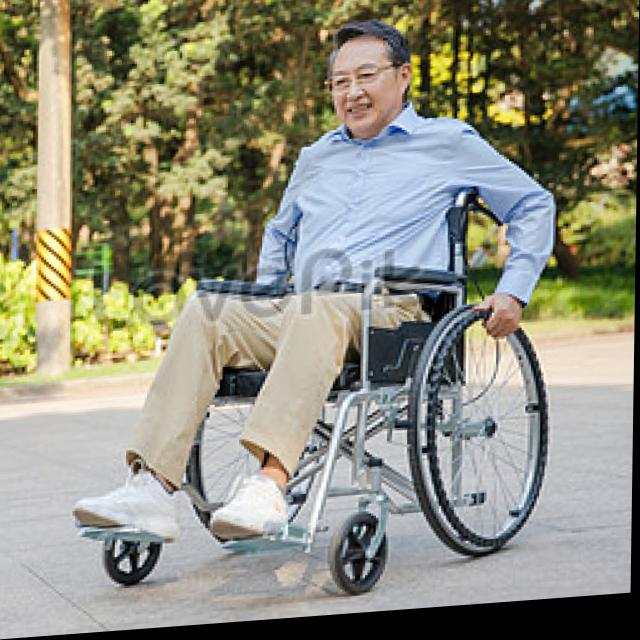wheelchair: (72, 15, 561, 615)
